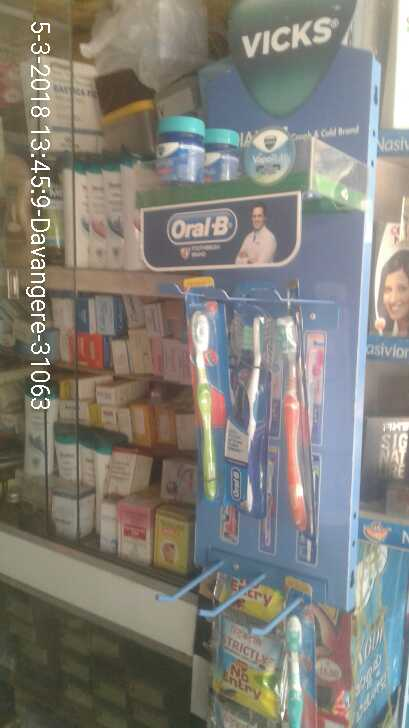oralb: (266, 303, 321, 543), (179, 284, 233, 507), (229, 289, 279, 518)
